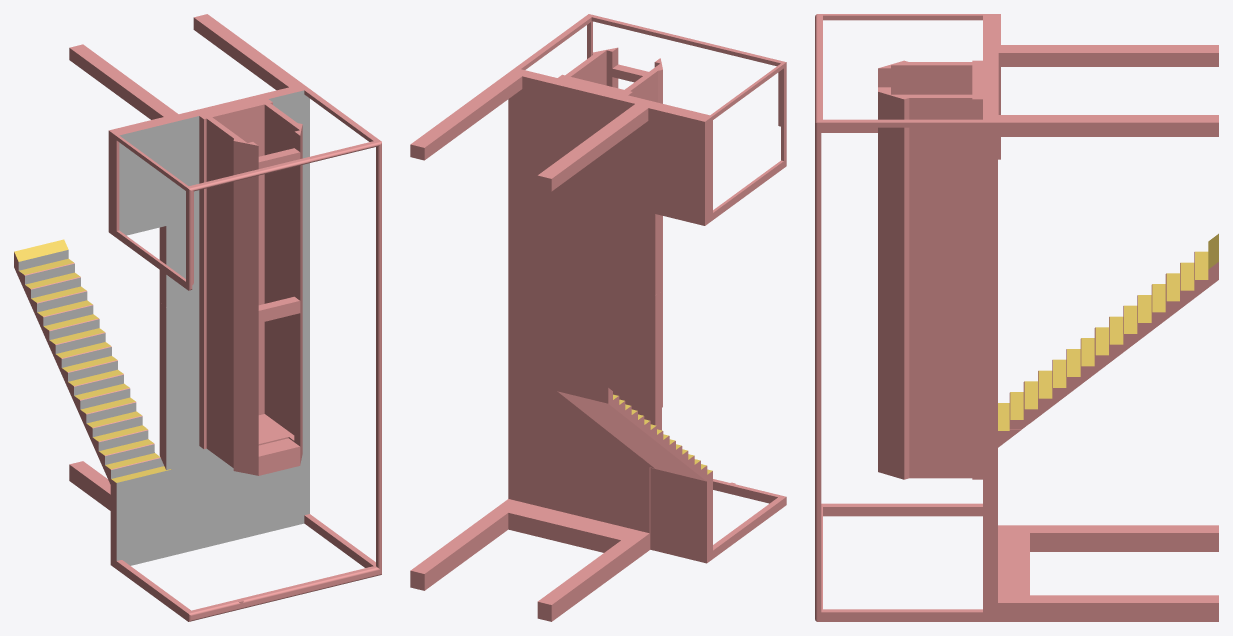
File: vaglio.glb
The picture shows the model from 3 angles, left to right: view 1: azimuth 30°, elevation 25°; view 2: azimuth 150°, elevation 25°; view 3: azimuth 270°, elevation 25°; orthographic projection. The views are drawn at different scales.
Visible parts, largest first — view 1: Body1; view 2: Body1; view 3: Body1.
Boxes of the visible parts, left/top/right/bottom form: Body1: left=14, top=14, right=381, bottom=621; Body1: left=410, top=14, right=786, bottom=621; Body1: left=815, top=14, right=1218, bottom=621.
Size of the model in its own units: 0.0491 by 0.105 by 0.077.
